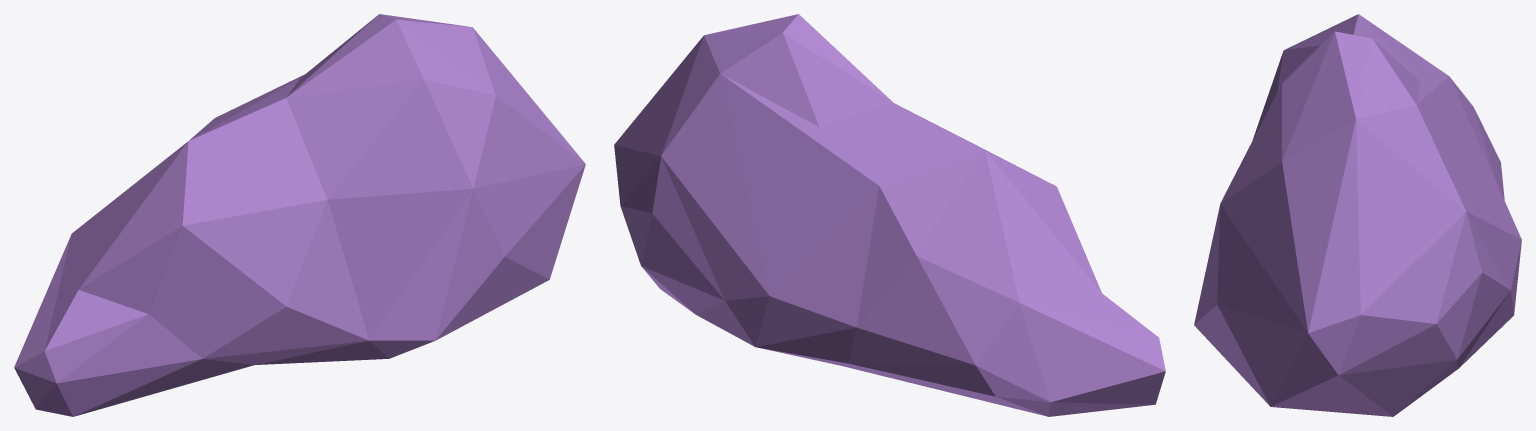
The model's file is boulder5.fbx.
3 views of the same model, side by side, from view 1: azimuth 30°, elevation 25°; view 2: azimuth 150°, elevation 25°; view 3: azimuth 270°, elevation 25° (orthographic). The views are drawn at different scales.
Parts seen in each view (by area): view 1: boulder3; view 2: boulder3; view 3: boulder3.
Boxes of the visible parts, x1=… form: boulder3: x1=14, y1=14, x2=585, y2=416; boulder3: x1=614, y1=14, x2=1165, y2=416; boulder3: x1=1194, y1=14, x2=1521, y2=416.
Size of the model in its own units: 1089 by 583 by 493.
